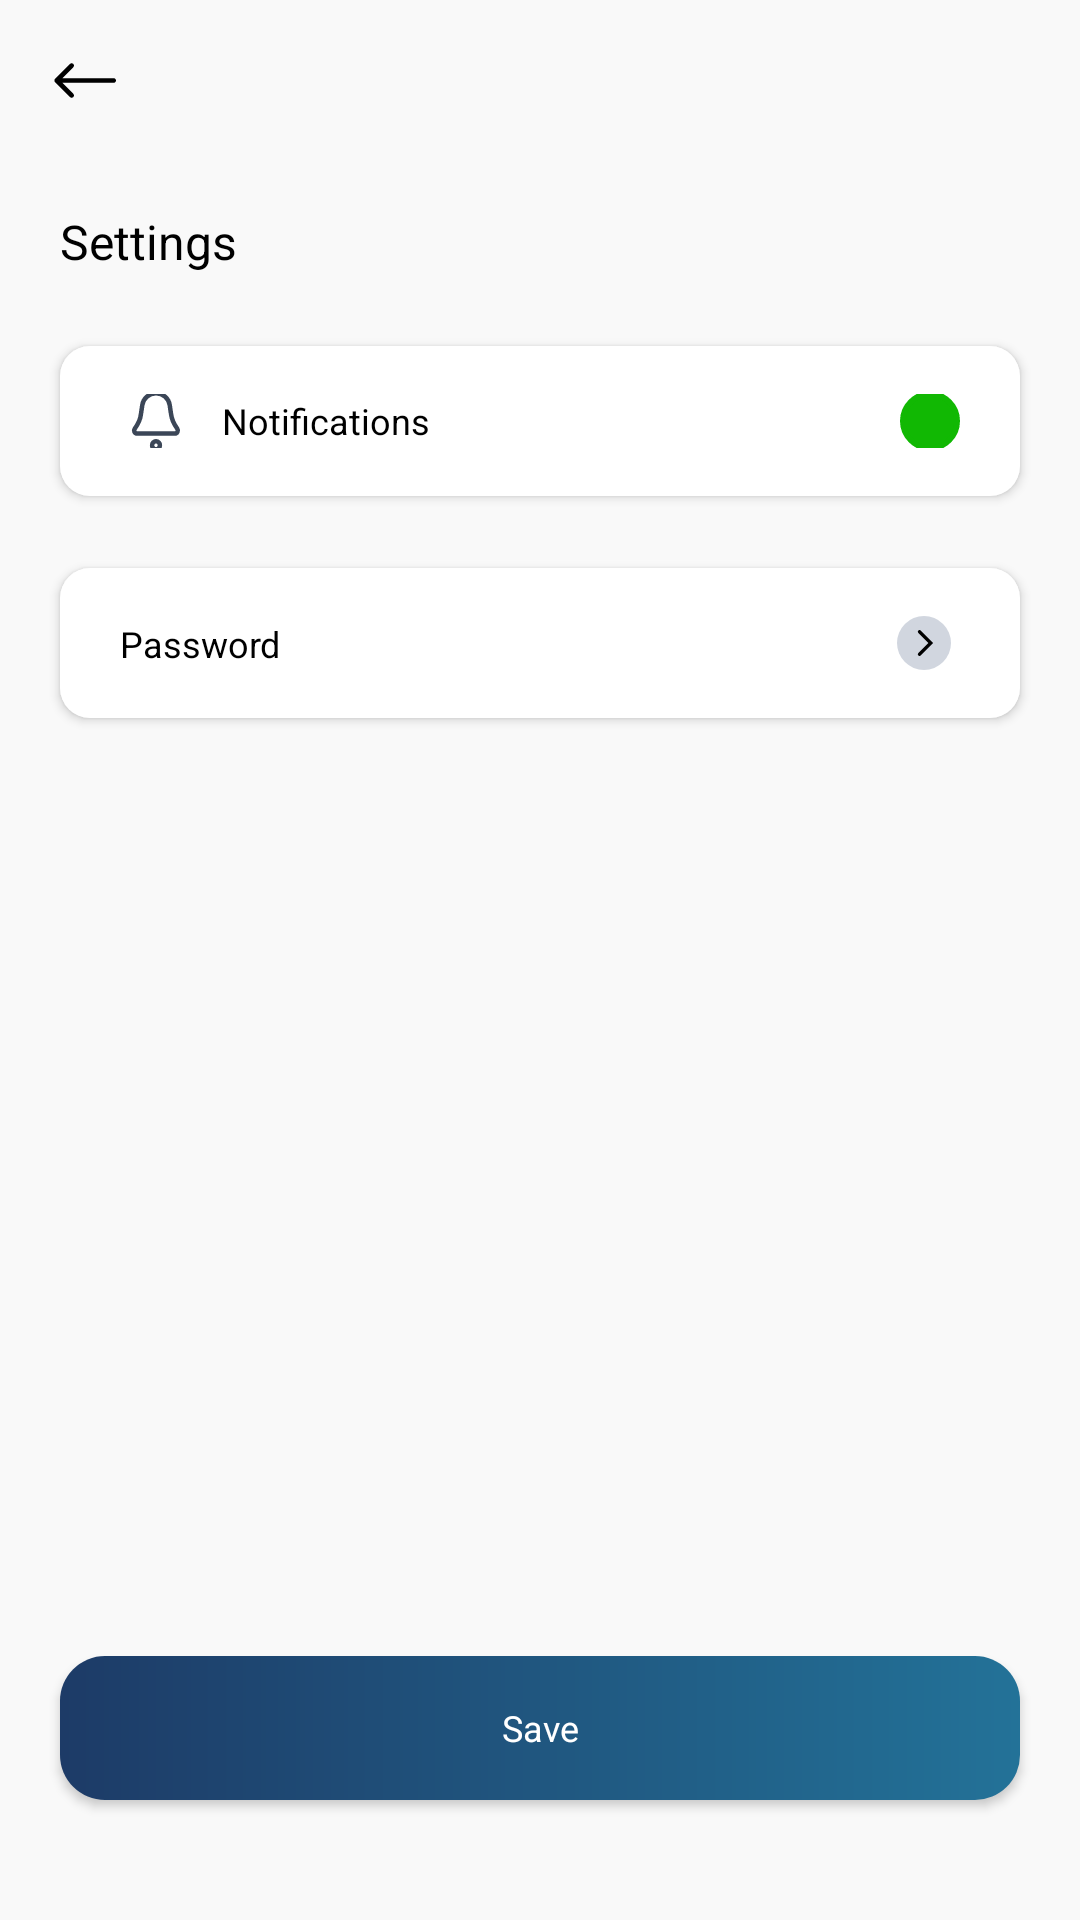

Icon click points for this 1080px×1920px phone screenshot, format (x=x, y=y):
back: (x=85, y=80)
forword: (x=924, y=643)
